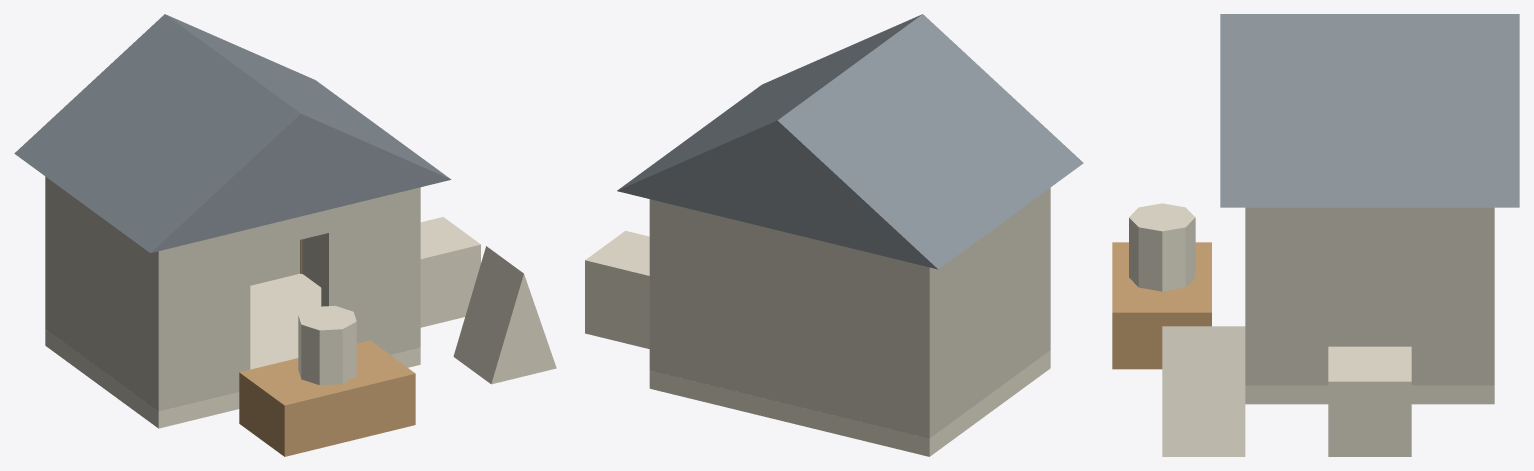
The model's file is masons-yard.glb.
3 renders of one model, left to right at view 1: azimuth 30°, elevation 25°; view 2: azimuth 150°, elevation 25°; view 3: azimuth 270°, elevation 25°, orthographic. The views are drawn at different scales.
Visible parts, largest first — view 1: masons-yard; view 2: masons-yard; view 3: masons-yard.
Part boxes in pixels (box(x1,y1,x2,y2)): masons-yard: box(14, 14, 556, 456); masons-yard: box(585, 14, 1083, 456); masons-yard: box(1112, 14, 1519, 456).
Bounding box in the file's own units: 5.8 × 4.25 × 4.9.
